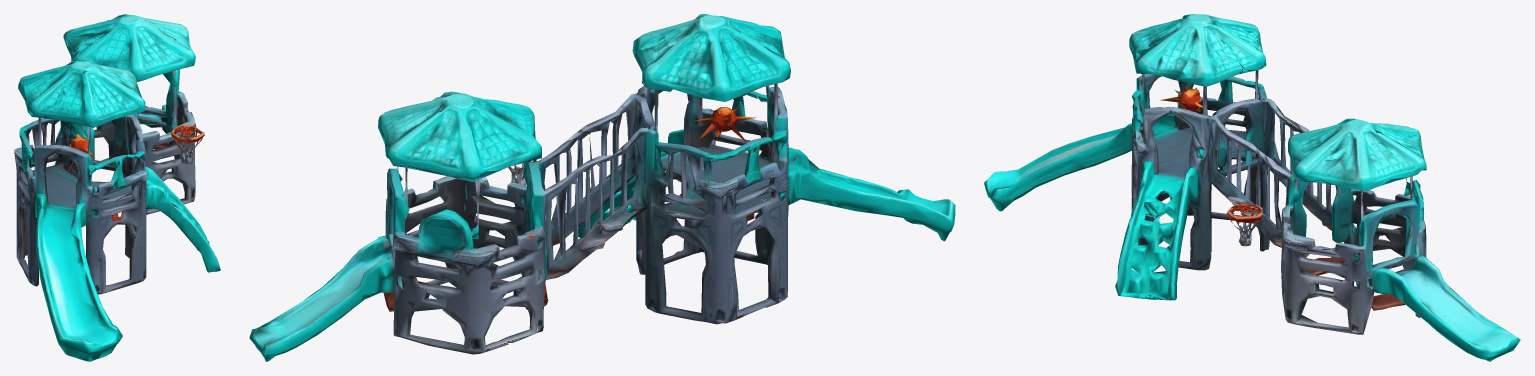
File: climb.glb
The picture shows the model from 3 angles, left to right: view 1: azimuth 30°, elevation 25°; view 2: azimuth 150°, elevation 25°; view 3: azimuth 270°, elevation 25°; orthographic projection. The views are drawn at different scales.
Visible parts, largest first — view 1: prop; view 2: prop; view 3: prop.
Boxes of the visible parts, <box> form: prop: <box>14,14,220,361</box>; prop: <box>249,14,955,361</box>; prop: <box>984,14,1520,361</box>.
Bounding box in the file's own units: 1.65 × 1 × 2.14.
Materials: 1 (1 with a texture image).
